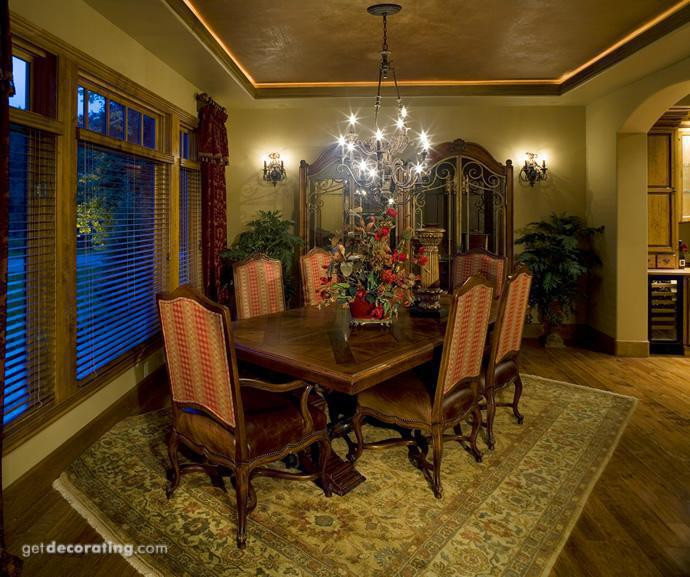Matera: (536, 224, 597, 355)
Ventana: (67, 56, 171, 352), (6, 53, 65, 450)
